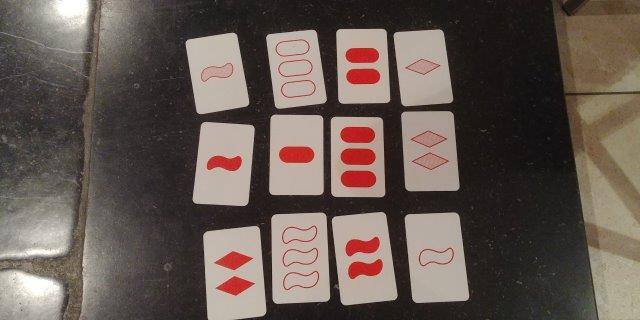1EW: (412, 216, 458, 298)
1FP: (272, 117, 319, 192)
1FW: (201, 127, 247, 202)
1HD: (400, 33, 442, 99)
1HW: (196, 40, 236, 107)
2FD: (209, 235, 258, 313)
2FP: (339, 31, 383, 101)
2FW: (337, 217, 385, 298)
2HD: (405, 113, 452, 187)
3EP: (272, 33, 316, 104)
3EW: (273, 217, 322, 299)
3FP: (333, 119, 380, 195)
